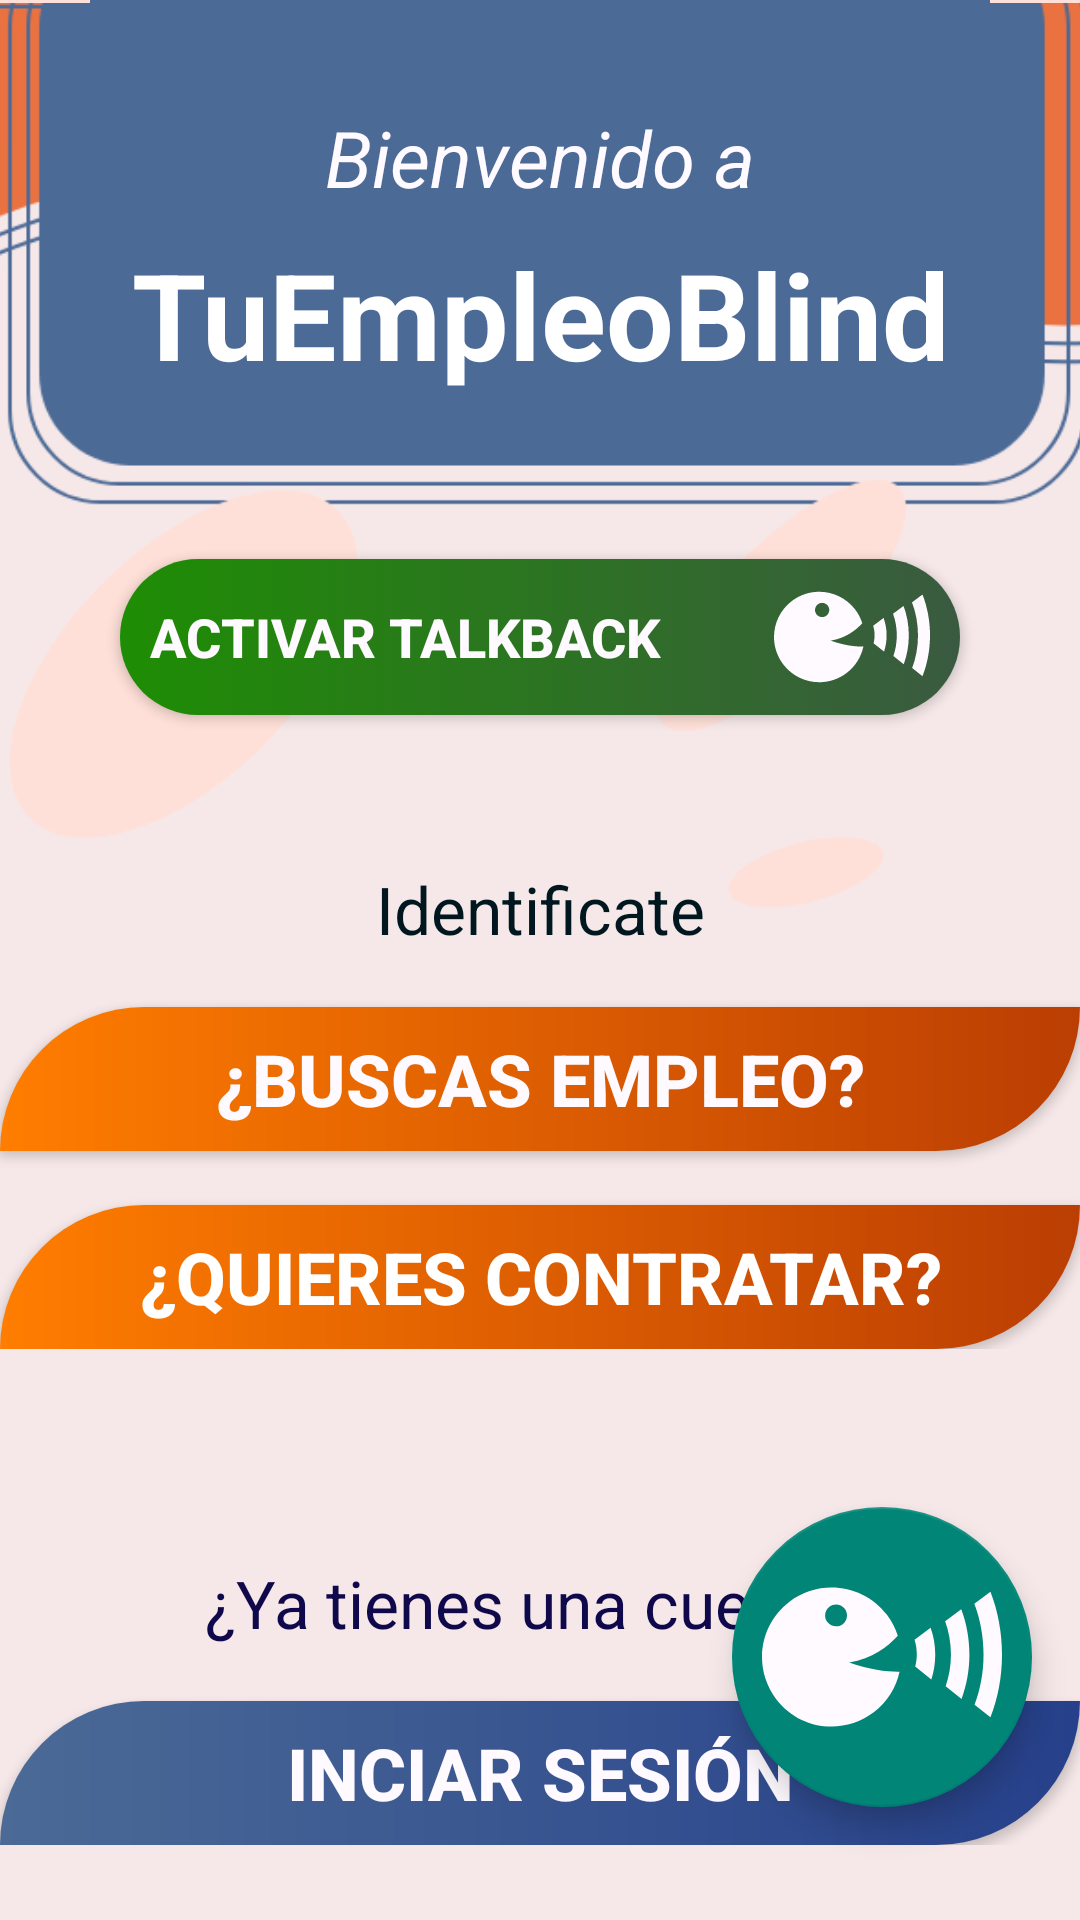

Icon click points for this 1080×1920 phone screenshot, format point (x, y):
Activar comandos de voz: point (882, 1657)
